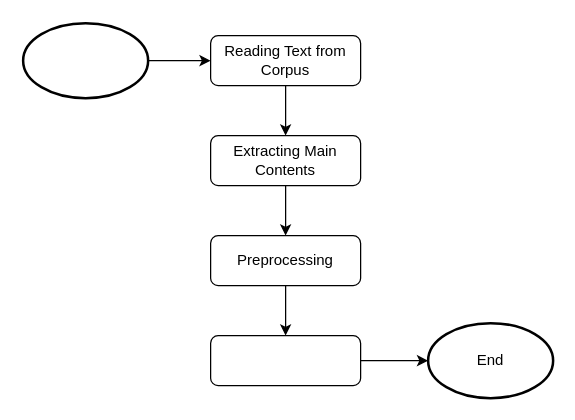
The diagram is 575 pixels wide and 420 high, and some of its shapes have lost their labels. The centre of each missing label's shape, as x and y in pixels:
"Merged into a Single Corpus" goes at point (285, 360).
"Start" goes at point (85, 60).
